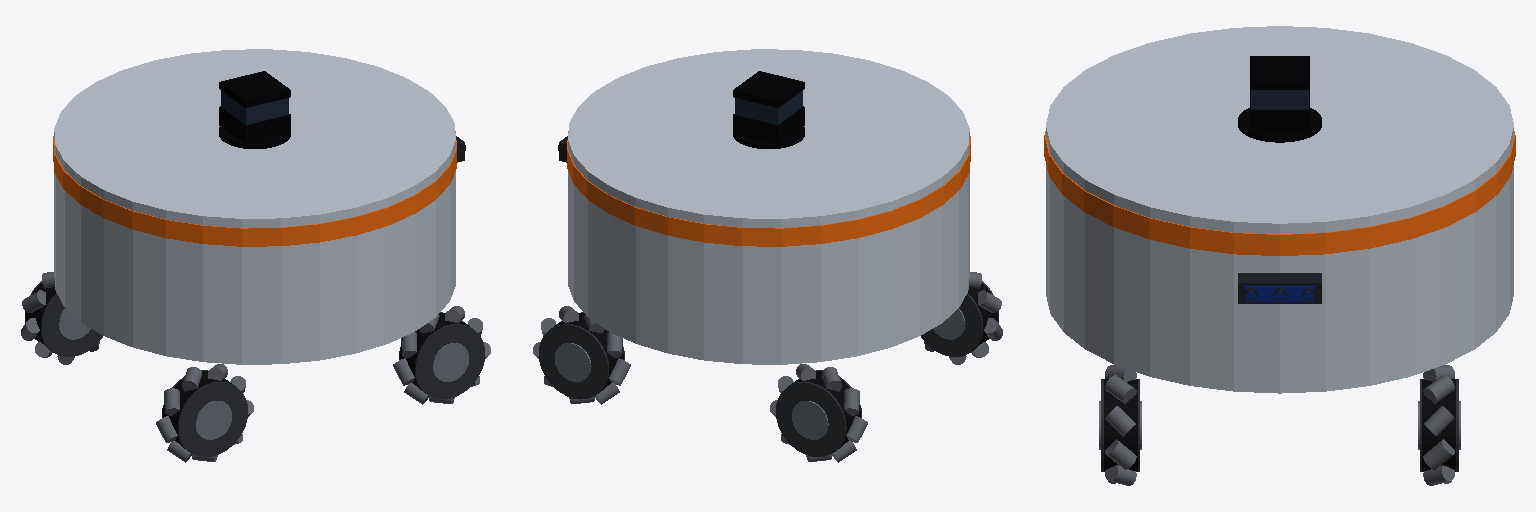
URDF robot description (zhirong_omni_robot):
<?xml version="1.0"?>
<!--
  Zhirong Cup omnidirectional robot - minimalist primitive-geometry URDF
  ======================================================================
  Coordinate convention:
    +X : forward (depth camera side)
    +Y : left
    +Z : up
    base_footprint : ground projection of the robot centre
    base_link      : geometric centre of the cylindrical body

  Key dimensions (metres):
    body cylinder          radius 0.250, height 0.200
    body bottom / top      z = 0.140 / 0.340
    wheel                  radius 0.065, width 0.040
    wheel centres          x = +-0.170, y = +-0.170, z = 0.065
    Livox Mid-360          65 x 65 x 60 mm, on body top centre
    depth camera (D435i)   90 x 25 x 25 mm, front face of body
  ======================================================================
-->
<robot name="zhirong_omni_robot">

  <!-- ======================= materials ======================= -->
  <material name="body_gray">
    <color rgba="0.76 0.79 0.83 1.0"/>
  </material>
  <material name="accent_orange">
    <color rgba="0.95 0.45 0.10 1.0"/>
  </material>
  <material name="wheel_black">
    <color rgba="0.09 0.09 0.10 1.0"/>
  </material>
  <material name="hub_gray">
    <color rgba="0.45 0.47 0.50 1.0"/>
  </material>
  <material name="wheel_plate">
    <color rgba="0.22 0.23 0.25 1.0"/>
  </material>
  <material name="roller_gray">
    <color rgba="0.40 0.41 0.44 1.0"/>
  </material>
  <material name="lidar_black">
    <color rgba="0.05 0.05 0.06 1.0"/>
  </material>
  <material name="lidar_glass">
    <color rgba="0.16 0.19 0.25 1.0"/>
  </material>
  <material name="camera_dark">
    <color rgba="0.15 0.16 0.18 1.0"/>
  </material>
  <material name="lens_blue">
    <color rgba="0.08 0.20 0.50 1.0"/>
  </material>

  <!-- ======================= chassis ======================= -->
  <link name="base_footprint"/>

  <link name="base_link">
    <inertial>
      <origin xyz="0 0 0" rpy="0 0 0"/>
      <mass value="8.0"/>
      <!-- solid cylinder: Ixx=Iyy=m(3r^2+h^2)/12, Izz=m r^2/2 -->
      <inertia ixx="0.1516667" ixy="0.0" ixz="0.0"
               iyy="0.1516667" iyz="0.0" izz="0.25"/>
    </inertial>

    <visual>
      <origin xyz="0 0 0" rpy="0 0 0"/>
      <geometry>
        <cylinder radius="0.25" length="0.20"/>
      </geometry>
      <material name="body_gray"/>
    </visual>

    <!-- thin orange accent band, purely cosmetic -->
    <visual>
      <origin xyz="0 0 0.075" rpy="0 0 0"/>
      <geometry>
        <cylinder radius="0.2515" length="0.025"/>
      </geometry>
      <material name="accent_orange"/>
    </visual>

    <collision>
      <origin xyz="0 0 0" rpy="0 0 0"/>
      <geometry>
        <cylinder radius="0.25" length="0.20"/>
      </geometry>
    </collision>
  </link>

  <joint name="base_footprint_joint" type="fixed">
    <parent link="base_footprint"/>
    <child link="base_link"/>
    <origin xyz="0 0 0.24" rpy="0 0 0"/>
  </joint>

  <!-- ======================= wheels =======================
       Four mecanum-style wheels, X layout (45 deg positions).
       Wheel axle is parallel to Y, so every wheel uses axis "0 1 0".
       For mecanum kinematics the four wheel speeds are the usual
       w_fl = ( vx - vy - (lx+ly)wz ) / r  ... etc.
  ======================================================== -->

  <!-- front left -->
  <link name="wheel_front_left_link">
    <inertial>
      <origin xyz="0 0 0" rpy="0 0 0"/>
      <mass value="0.4"/>
      <!-- cylinder axis along Y -->
      <inertia ixx="0.0004758" ixy="0.0" ixz="0.0"
               iyy="0.0008450" iyz="0.0" izz="0.0004758"/>
    </inertial>
    <visual>
      <origin xyz="0 0 0" rpy="1.57079633 0 0"/>
      <geometry>
        <cylinder radius="0.05" length="0.036"/>
      </geometry>
      <material name="wheel_black"/>
    </visual>
    <visual>
      <origin xyz="0 0.0195 0" rpy="1.57079633 0 0"/>
      <geometry>
        <cylinder radius="0.05" length="0.003"/>
      </geometry>
      <material name="wheel_plate"/>
    </visual>
    <visual>
      <origin xyz="0 -0.0195 0" rpy="1.57079633 0 0"/>
      <geometry>
        <cylinder radius="0.05" length="0.003"/>
      </geometry>
      <material name="wheel_plate"/>
    </visual>
    <visual>
      <origin xyz="0 0 0" rpy="1.57079633 0 0"/>
      <geometry>
        <cylinder radius="0.026" length="0.046"/>
      </geometry>
      <material name="hub_gray"/>
    </visual>
    <visual>
      <origin xyz="0 0 -0.054" rpy="-1.57079633 0 -0.78539816"/>
      <geometry>
        <cylinder radius="0.01" length="0.028"/>
      </geometry>
      <material name="roller_gray"/>
    </visual>
    <visual>
      <origin xyz="0.03471053 0 -0.0413664" rpy="-1.09896365 0 -0.65369072"/>
      <geometry>
        <cylinder radius="0.01" length="0.028"/>
      </geometry>
      <material name="roller_gray"/>
    </visual>
    <visual>
      <origin xyz="0.05317962 0 -0.009377" rpy="-0.80047729 0 -0.17193371"/>
      <geometry>
        <cylinder radius="0.01" length="0.028"/>
      </geometry>
      <material name="roller_gray"/>
    </visual>
    <visual>
      <origin xyz="0.04676537 0 0.027" rpy="-0.91173829 0 0.46364761"/>
      <geometry>
        <cylinder radius="0.01" length="0.028"/>
      </geometry>
      <material name="roller_gray"/>
    </visual>
    <visual>
      <origin xyz="0.01846909 0 0.0507434" rpy="-1.32652972 0 0.75431697"/>
      <geometry>
        <cylinder radius="0.01" length="0.028"/>
      </geometry>
      <material name="roller_gray"/>
    </visual>
    <visual>
      <origin xyz="-0.01846909 0 0.0507434" rpy="-1.81506293 0 0.75431697"/>
      <geometry>
        <cylinder radius="0.01" length="0.028"/>
      </geometry>
      <material name="roller_gray"/>
    </visual>
    <visual>
      <origin xyz="-0.04676537 0 0.027" rpy="-2.22985436 0 0.46364761"/>
      <geometry>
        <cylinder radius="0.01" length="0.028"/>
      </geometry>
      <material name="roller_gray"/>
    </visual>
    <visual>
      <origin xyz="-0.05317962 0 -0.009377" rpy="-2.34111536 0 -0.17193371"/>
      <geometry>
        <cylinder radius="0.01" length="0.028"/>
      </geometry>
      <material name="roller_gray"/>
    </visual>
    <visual>
      <origin xyz="-0.03471053 0 -0.0413664" rpy="-2.042629 0 -0.65369072"/>
      <geometry>
        <cylinder radius="0.01" length="0.028"/>
      </geometry>
      <material name="roller_gray"/>
    </visual>
    <collision>
      <origin xyz="0 0 0" rpy="1.57079632679 0 0"/>
      <geometry>
        <cylinder radius="0.065" length="0.040"/>
      </geometry>
    </collision>
  </link>
  <joint name="wheel_front_left_joint" type="continuous">
    <parent link="base_link"/>
    <child link="wheel_front_left_link"/>
    <origin xyz="0.17 0.17 -0.175" rpy="0 0 0"/>
    <axis xyz="0 1 0"/>
    <limit effort="20.0" velocity="30.0"/>
    <dynamics damping="0.01" friction="0.01"/>
  </joint>

  <!-- front right -->
  <link name="wheel_front_right_link">
    <inertial>
      <origin xyz="0 0 0" rpy="0 0 0"/>
      <mass value="0.4"/>
      <!-- cylinder axis along Y -->
      <inertia ixx="0.0004758" ixy="0.0" ixz="0.0"
               iyy="0.0008450" iyz="0.0" izz="0.0004758"/>
    </inertial>
    <visual>
      <origin xyz="0 0 0" rpy="1.57079633 0 0"/>
      <geometry>
        <cylinder radius="0.05" length="0.036"/>
      </geometry>
      <material name="wheel_black"/>
    </visual>
    <visual>
      <origin xyz="0 0.0195 0" rpy="1.57079633 0 0"/>
      <geometry>
        <cylinder radius="0.05" length="0.003"/>
      </geometry>
      <material name="wheel_plate"/>
    </visual>
    <visual>
      <origin xyz="0 -0.0195 0" rpy="1.57079633 0 0"/>
      <geometry>
        <cylinder radius="0.05" length="0.003"/>
      </geometry>
      <material name="wheel_plate"/>
    </visual>
    <visual>
      <origin xyz="0 0 0" rpy="1.57079633 0 0"/>
      <geometry>
        <cylinder radius="0.026" length="0.046"/>
      </geometry>
      <material name="hub_gray"/>
    </visual>
    <visual>
      <origin xyz="0 0 -0.054" rpy="-1.57079633 0 -2.35619449"/>
      <geometry>
        <cylinder radius="0.01" length="0.028"/>
      </geometry>
      <material name="roller_gray"/>
    </visual>
    <visual>
      <origin xyz="0.03471053 0 -0.0413664" rpy="-1.09896365 0 -2.48790193"/>
      <geometry>
        <cylinder radius="0.01" length="0.028"/>
      </geometry>
      <material name="roller_gray"/>
    </visual>
    <visual>
      <origin xyz="0.05317962 0 -0.009377" rpy="-0.80047729 0 -2.96965894"/>
      <geometry>
        <cylinder radius="0.01" length="0.028"/>
      </geometry>
      <material name="roller_gray"/>
    </visual>
    <visual>
      <origin xyz="0.04676537 0 0.027" rpy="-0.91173829 0 2.67794504"/>
      <geometry>
        <cylinder radius="0.01" length="0.028"/>
      </geometry>
      <material name="roller_gray"/>
    </visual>
    <visual>
      <origin xyz="0.01846909 0 0.0507434" rpy="-1.32652972 0 2.38727568"/>
      <geometry>
        <cylinder radius="0.01" length="0.028"/>
      </geometry>
      <material name="roller_gray"/>
    </visual>
    <visual>
      <origin xyz="-0.01846909 0 0.0507434" rpy="-1.81506293 0 2.38727568"/>
      <geometry>
        <cylinder radius="0.01" length="0.028"/>
      </geometry>
      <material name="roller_gray"/>
    </visual>
    <visual>
      <origin xyz="-0.04676537 0 0.027" rpy="-2.22985436 0 2.67794504"/>
      <geometry>
        <cylinder radius="0.01" length="0.028"/>
      </geometry>
      <material name="roller_gray"/>
    </visual>
    <visual>
      <origin xyz="-0.05317962 0 -0.009377" rpy="-2.34111536 0 -2.96965894"/>
      <geometry>
        <cylinder radius="0.01" length="0.028"/>
      </geometry>
      <material name="roller_gray"/>
    </visual>
    <visual>
      <origin xyz="-0.03471053 0 -0.0413664" rpy="-2.042629 0 -2.48790193"/>
      <geometry>
        <cylinder radius="0.01" length="0.028"/>
      </geometry>
      <material name="roller_gray"/>
    </visual>
    <collision>
      <origin xyz="0 0 0" rpy="1.57079632679 0 0"/>
      <geometry>
        <cylinder radius="0.065" length="0.040"/>
      </geometry>
    </collision>
  </link>
  <joint name="wheel_front_right_joint" type="continuous">
    <parent link="base_link"/>
    <child link="wheel_front_right_link"/>
    <origin xyz="0.17 -0.17 -0.175" rpy="0 0 0"/>
    <axis xyz="0 1 0"/>
    <limit effort="20.0" velocity="30.0"/>
    <dynamics damping="0.01" friction="0.01"/>
  </joint>

  <!-- rear left -->
  <link name="wheel_rear_left_link">
    <inertial>
      <origin xyz="0 0 0" rpy="0 0 0"/>
      <mass value="0.4"/>
      <!-- cylinder axis along Y -->
      <inertia ixx="0.0004758" ixy="0.0" ixz="0.0"
               iyy="0.0008450" iyz="0.0" izz="0.0004758"/>
    </inertial>
    <visual>
      <origin xyz="0 0 0" rpy="1.57079633 0 0"/>
      <geometry>
        <cylinder radius="0.05" length="0.036"/>
      </geometry>
      <material name="wheel_black"/>
    </visual>
    <visual>
      <origin xyz="0 0.0195 0" rpy="1.57079633 0 0"/>
      <geometry>
        <cylinder radius="0.05" length="0.003"/>
      </geometry>
      <material name="wheel_plate"/>
    </visual>
    <visual>
      <origin xyz="0 -0.0195 0" rpy="1.57079633 0 0"/>
      <geometry>
        <cylinder radius="0.05" length="0.003"/>
      </geometry>
      <material name="wheel_plate"/>
    </visual>
    <visual>
      <origin xyz="0 0 0" rpy="1.57079633 0 0"/>
      <geometry>
        <cylinder radius="0.026" length="0.046"/>
      </geometry>
      <material name="hub_gray"/>
    </visual>
    <visual>
      <origin xyz="0 0 -0.054" rpy="-1.57079633 0 -0.78539816"/>
      <geometry>
        <cylinder radius="0.01" length="0.028"/>
      </geometry>
      <material name="roller_gray"/>
    </visual>
    <visual>
      <origin xyz="0.03471053 0 -0.0413664" rpy="-1.09896365 0 -0.65369072"/>
      <geometry>
        <cylinder radius="0.01" length="0.028"/>
      </geometry>
      <material name="roller_gray"/>
    </visual>
    <visual>
      <origin xyz="0.05317962 0 -0.009377" rpy="-0.80047729 0 -0.17193371"/>
      <geometry>
        <cylinder radius="0.01" length="0.028"/>
      </geometry>
      <material name="roller_gray"/>
    </visual>
    <visual>
      <origin xyz="0.04676537 0 0.027" rpy="-0.91173829 0 0.46364761"/>
      <geometry>
        <cylinder radius="0.01" length="0.028"/>
      </geometry>
      <material name="roller_gray"/>
    </visual>
    <visual>
      <origin xyz="0.01846909 0 0.0507434" rpy="-1.32652972 0 0.75431697"/>
      <geometry>
        <cylinder radius="0.01" length="0.028"/>
      </geometry>
      <material name="roller_gray"/>
    </visual>
    <visual>
      <origin xyz="-0.01846909 0 0.0507434" rpy="-1.81506293 0 0.75431697"/>
      <geometry>
        <cylinder radius="0.01" length="0.028"/>
      </geometry>
      <material name="roller_gray"/>
    </visual>
    <visual>
      <origin xyz="-0.04676537 0 0.027" rpy="-2.22985436 0 0.46364761"/>
      <geometry>
        <cylinder radius="0.01" length="0.028"/>
      </geometry>
      <material name="roller_gray"/>
    </visual>
    <visual>
      <origin xyz="-0.05317962 0 -0.009377" rpy="-2.34111536 0 -0.17193371"/>
      <geometry>
        <cylinder radius="0.01" length="0.028"/>
      </geometry>
      <material name="roller_gray"/>
    </visual>
    <visual>
      <origin xyz="-0.03471053 0 -0.0413664" rpy="-2.042629 0 -0.65369072"/>
      <geometry>
        <cylinder radius="0.01" length="0.028"/>
      </geometry>
      <material name="roller_gray"/>
    </visual>
    <collision>
      <origin xyz="0 0 0" rpy="1.57079632679 0 0"/>
      <geometry>
        <cylinder radius="0.065" length="0.040"/>
      </geometry>
    </collision>
  </link>
  <joint name="wheel_rear_left_joint" type="continuous">
    <parent link="base_link"/>
    <child link="wheel_rear_left_link"/>
    <origin xyz="-0.17 0.17 -0.175" rpy="0 0 0"/>
    <axis xyz="0 1 0"/>
    <limit effort="20.0" velocity="30.0"/>
    <dynamics damping="0.01" friction="0.01"/>
  </joint>

  <!-- rear right -->
  <link name="wheel_rear_right_link">
    <inertial>
      <origin xyz="0 0 0" rpy="0 0 0"/>
      <mass value="0.4"/>
      <!-- cylinder axis along Y -->
      <inertia ixx="0.0004758" ixy="0.0" ixz="0.0"
               iyy="0.0008450" iyz="0.0" izz="0.0004758"/>
    </inertial>
    <visual>
      <origin xyz="0 0 0" rpy="1.57079633 0 0"/>
      <geometry>
        <cylinder radius="0.05" length="0.036"/>
      </geometry>
      <material name="wheel_black"/>
    </visual>
    <visual>
      <origin xyz="0 0.0195 0" rpy="1.57079633 0 0"/>
      <geometry>
        <cylinder radius="0.05" length="0.003"/>
      </geometry>
      <material name="wheel_plate"/>
    </visual>
    <visual>
      <origin xyz="0 -0.0195 0" rpy="1.57079633 0 0"/>
      <geometry>
        <cylinder radius="0.05" length="0.003"/>
      </geometry>
      <material name="wheel_plate"/>
    </visual>
    <visual>
      <origin xyz="0 0 0" rpy="1.57079633 0 0"/>
      <geometry>
        <cylinder radius="0.026" length="0.046"/>
      </geometry>
      <material name="hub_gray"/>
    </visual>
    <visual>
      <origin xyz="0 0 -0.054" rpy="-1.57079633 0 -2.35619449"/>
      <geometry>
        <cylinder radius="0.01" length="0.028"/>
      </geometry>
      <material name="roller_gray"/>
    </visual>
    <visual>
      <origin xyz="0.03471053 0 -0.0413664" rpy="-1.09896365 0 -2.48790193"/>
      <geometry>
        <cylinder radius="0.01" length="0.028"/>
      </geometry>
      <material name="roller_gray"/>
    </visual>
    <visual>
      <origin xyz="0.05317962 0 -0.009377" rpy="-0.80047729 0 -2.96965894"/>
      <geometry>
        <cylinder radius="0.01" length="0.028"/>
      </geometry>
      <material name="roller_gray"/>
    </visual>
    <visual>
      <origin xyz="0.04676537 0 0.027" rpy="-0.91173829 0 2.67794504"/>
      <geometry>
        <cylinder radius="0.01" length="0.028"/>
      </geometry>
      <material name="roller_gray"/>
    </visual>
    <visual>
      <origin xyz="0.01846909 0 0.0507434" rpy="-1.32652972 0 2.38727568"/>
      <geometry>
        <cylinder radius="0.01" length="0.028"/>
      </geometry>
      <material name="roller_gray"/>
    </visual>
    <visual>
      <origin xyz="-0.01846909 0 0.0507434" rpy="-1.81506293 0 2.38727568"/>
      <geometry>
        <cylinder radius="0.01" length="0.028"/>
      </geometry>
      <material name="roller_gray"/>
    </visual>
    <visual>
      <origin xyz="-0.04676537 0 0.027" rpy="-2.22985436 0 2.67794504"/>
      <geometry>
        <cylinder radius="0.01" length="0.028"/>
      </geometry>
      <material name="roller_gray"/>
    </visual>
    <visual>
      <origin xyz="-0.05317962 0 -0.009377" rpy="-2.34111536 0 -2.96965894"/>
      <geometry>
        <cylinder radius="0.01" length="0.028"/>
      </geometry>
      <material name="roller_gray"/>
    </visual>
    <visual>
      <origin xyz="-0.03471053 0 -0.0413664" rpy="-2.042629 0 -2.48790193"/>
      <geometry>
        <cylinder radius="0.01" length="0.028"/>
      </geometry>
      <material name="roller_gray"/>
    </visual>
    <collision>
      <origin xyz="0 0 0" rpy="1.57079632679 0 0"/>
      <geometry>
        <cylinder radius="0.065" length="0.040"/>
      </geometry>
    </collision>
  </link>
  <joint name="wheel_rear_right_joint" type="continuous">
    <parent link="base_link"/>
    <child link="wheel_rear_right_link"/>
    <origin xyz="-0.17 -0.17 -0.175" rpy="0 0 0"/>
    <axis xyz="0 1 0"/>
    <limit effort="20.0" velocity="30.0"/>
    <dynamics damping="0.01" friction="0.01"/>
  </joint>

  <!-- ======================= Livox Mid-360 =======================
       Link frame: centre of the mounting face (top of the body).
       Device: 65 x 65 x 60 mm, weight 265 g.
       Mounting plate 6 mm + device 60 mm -> top of lidar at z = 0.406.
  =============================================================== -->
  <link name="livox_mid360_link">
    <inertial>
      <origin xyz="0 0 0.036" rpy="0 0 0"/>
      <mass value="0.265"/>
      <!-- box 0.065 x 0.065 x 0.060 -->
      <inertia ixx="0.0001727" ixy="0.0" ixz="0.0"
               iyy="0.0001727" iyz="0.0" izz="0.0001866"/>
    </inertial>

    <!-- adapter plate on the body top -->
    <visual>
      <origin xyz="0 0 0.003" rpy="0 0 0"/>
      <geometry>
        <cylinder radius="0.045" length="0.006"/>
      </geometry>
      <material name="lidar_black"/>
    </visual>

    <!-- lower housing -->
    <visual>
      <origin xyz="0 0 0.019" rpy="0 0 0"/>
      <geometry>
        <box size="0.065 0.065 0.026"/>
      </geometry>
      <material name="lidar_black"/>
    </visual>

    <!-- 360 deg optical window band -->
    <visual>
      <origin xyz="0 0 0.044" rpy="0 0 0"/>
      <geometry>
        <box size="0.062 0.062 0.024"/>
      </geometry>
      <material name="lidar_glass"/>
    </visual>

    <!-- top cap -->
    <visual>
      <origin xyz="0 0 0.061" rpy="0 0 0"/>
      <geometry>
        <box size="0.065 0.065 0.010"/>
      </geometry>
      <material name="lidar_black"/>
    </visual>

    <collision>
      <origin xyz="0 0 0.033" rpy="0 0 0"/>
      <geometry>
        <box size="0.065 0.065 0.066"/>
      </geometry>
    </collision>
  </link>
  <joint name="livox_mid360_joint" type="fixed">
    <parent link="base_link"/>
    <child link="livox_mid360_link"/>
    <origin xyz="0 0 0.10" rpy="0 0 0"/>
  </joint>

  <!-- ======================= depth camera =======================
       Intel RealSense D435i style: 90 x 25 x 25 mm.
       Body centre at x = 0.263 (back face 0.2505), z = 0.270.
       camera_link  : x forward, y left, z up (body axes)
       camera_optical_frame : z forward, x right, y down (REP-103)
  =============================================================== -->
  <link name="camera_link">
    <inertial>
      <origin xyz="0 0 0" rpy="0 0 0"/>
      <mass value="0.09"/>
      <!-- box 0.025 x 0.090 x 0.025 -->
      <inertia ixx="0.0000654" ixy="0.0" ixz="0.0"
               iyy="0.0000094" iyz="0.0" izz="0.0000654"/>
    </inertial>

    <visual>
      <origin xyz="0 0 0" rpy="0 0 0"/>
      <geometry>
        <box size="0.025 0.090 0.025"/>
      </geometry>
      <material name="camera_dark"/>
    </visual>

    <!-- dark front glass -->
    <visual>
      <origin xyz="0.0135 0 0" rpy="0 0 0"/>
      <geometry>
        <box size="0.002 0.074 0.018"/>
      </geometry>
      <material name="lens_blue"/>
    </visual>

    <!-- three lenses: left IR / RGB / right IR (dark ring + blue glass) -->
    <visual>
      <origin xyz="0.0160 -0.031 0" rpy="0 1.57079632679 0"/>
      <geometry>
        <cylinder radius="0.0070" length="0.003"/>
      </geometry>
      <material name="camera_dark"/>
    </visual>
    <visual>
      <origin xyz="0.0170 -0.031 0" rpy="0 1.57079632679 0"/>
      <geometry>
        <cylinder radius="0.0050" length="0.003"/>
      </geometry>
      <material name="lens_blue"/>
    </visual>
    <visual>
      <origin xyz="0.0160 0.000 0" rpy="0 1.57079632679 0"/>
      <geometry>
        <cylinder radius="0.0070" length="0.003"/>
      </geometry>
      <material name="camera_dark"/>
    </visual>
    <visual>
      <origin xyz="0.0170 0.000 0" rpy="0 1.57079632679 0"/>
      <geometry>
        <cylinder radius="0.0050" length="0.003"/>
      </geometry>
      <material name="lens_blue"/>
    </visual>
    <visual>
      <origin xyz="0.0160 0.031 0" rpy="0 1.57079632679 0"/>
      <geometry>
        <cylinder radius="0.0070" length="0.003"/>
      </geometry>
      <material name="camera_dark"/>
    </visual>
    <visual>
      <origin xyz="0.0170 0.031 0" rpy="0 1.57079632679 0"/>
      <geometry>
        <cylinder radius="0.0050" length="0.003"/>
      </geometry>
      <material name="lens_blue"/>
    </visual>

    <collision>
      <origin xyz="0 0 0" rpy="0 0 0"/>
      <geometry>
        <box size="0.025 0.090 0.025"/>
      </geometry>
    </collision>
  </link>
  <joint name="camera_joint" type="fixed">
    <parent link="base_link"/>
    <child link="camera_link"/>
    <origin xyz="0.263 0 0.03" rpy="0 0 0"/>
  </joint>

  <link name="camera_optical_frame"/>
  <joint name="camera_optical_joint" type="fixed">
    <parent link="camera_link"/>
    <child link="camera_optical_frame"/>
    <origin xyz="0.0185 0 0" rpy="-1.57079632679 0 -1.57079632679"/>
  </joint>

</robot>

--- Render facts (derived) ---
3 views of the same robot in one strip: view 1: azimuth 30°, elevation 25°; view 2: azimuth 150°, elevation 25°; view 3: azimuth 270°, elevation 25° (orthographic).
Model zhirong_omni_robot with 9 links and 8 joints (4 continuous, 4 fixed), rooted at base_footprint, posed all joints at 0.
Visible links, largest first — view 1: base_link, wheel_rear_right_link, wheel_front_right_link, livox_mid360_link, wheel_rear_left_link; view 2: base_link, wheel_rear_left_link, wheel_front_left_link, livox_mid360_link, wheel_rear_right_link; view 3: base_link, livox_mid360_link, wheel_front_left_link, wheel_front_right_link, camera_link.
Boxes of the visible links, x1,y1,x2,y2 form: base_link: (53, 49, 456, 364); wheel_rear_right_link: (156, 364, 253, 462); wheel_front_right_link: (393, 306, 490, 404); livox_mid360_link: (219, 71, 290, 148); wheel_rear_left_link: (21, 272, 102, 364); base_link: (567, 49, 970, 364); wheel_rear_left_link: (770, 364, 867, 462); wheel_front_left_link: (533, 306, 630, 404); livox_mid360_link: (733, 71, 804, 148); wheel_rear_right_link: (921, 272, 1002, 364); base_link: (1044, 26, 1515, 393); livox_mid360_link: (1238, 56, 1321, 142); wheel_front_left_link: (1418, 365, 1460, 485); wheel_front_right_link: (1099, 365, 1141, 485); camera_link: (1238, 273, 1321, 303).
Size in the robot's own frame: 0.533 by 0.503 by 0.405 metres.
Geometry: primitives only (box / cylinder / sphere), no mesh files.
